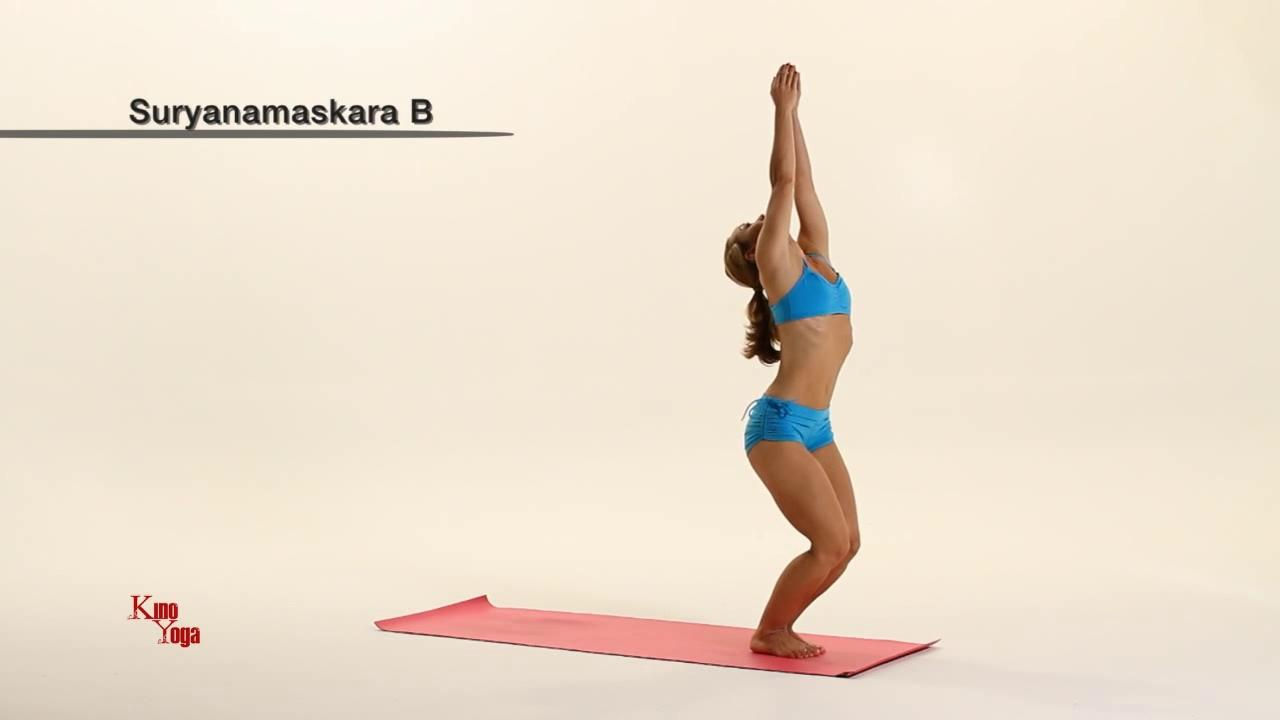victim: (721, 61, 867, 676)
